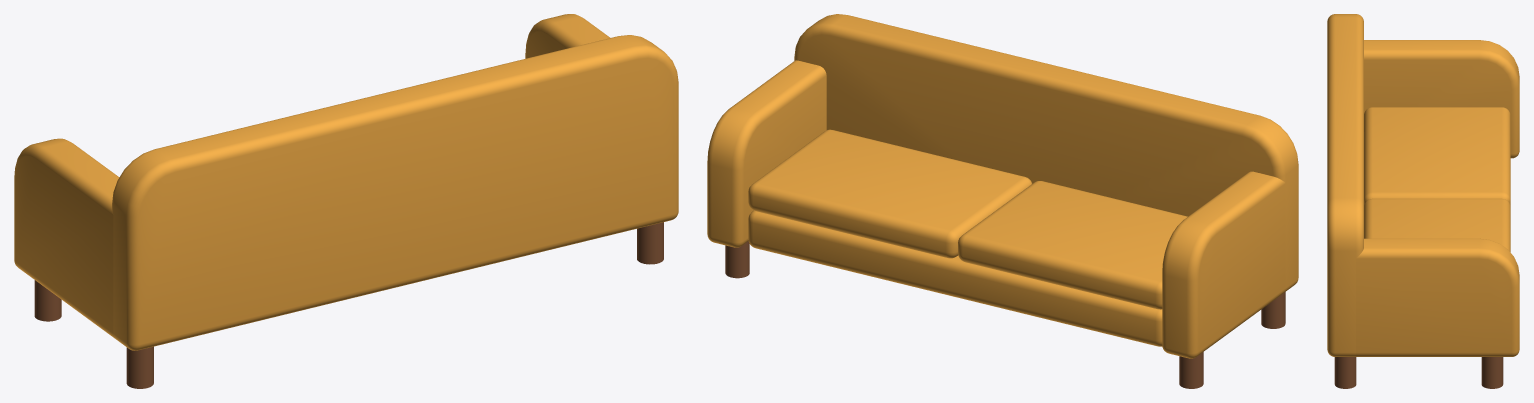
File: Couch5.fbx
3 views of the same model, side by side, from view 1: azimuth 30°, elevation 25°; view 2: azimuth 150°, elevation 25°; view 3: azimuth 270°, elevation 25° (orthographic). The views are drawn at different scales.
Parts seen in each view (by area): view 1: Couch5; view 2: Couch5; view 3: Couch5.
Boxes of the visible parts, <box> form: Couch5: <box>14,14,678,388</box>; Couch5: <box>707,14,1298,388</box>; Couch5: <box>1327,14,1519,388</box>.
Size of the model in its own units: 207 by 80.08 by 78.66.
